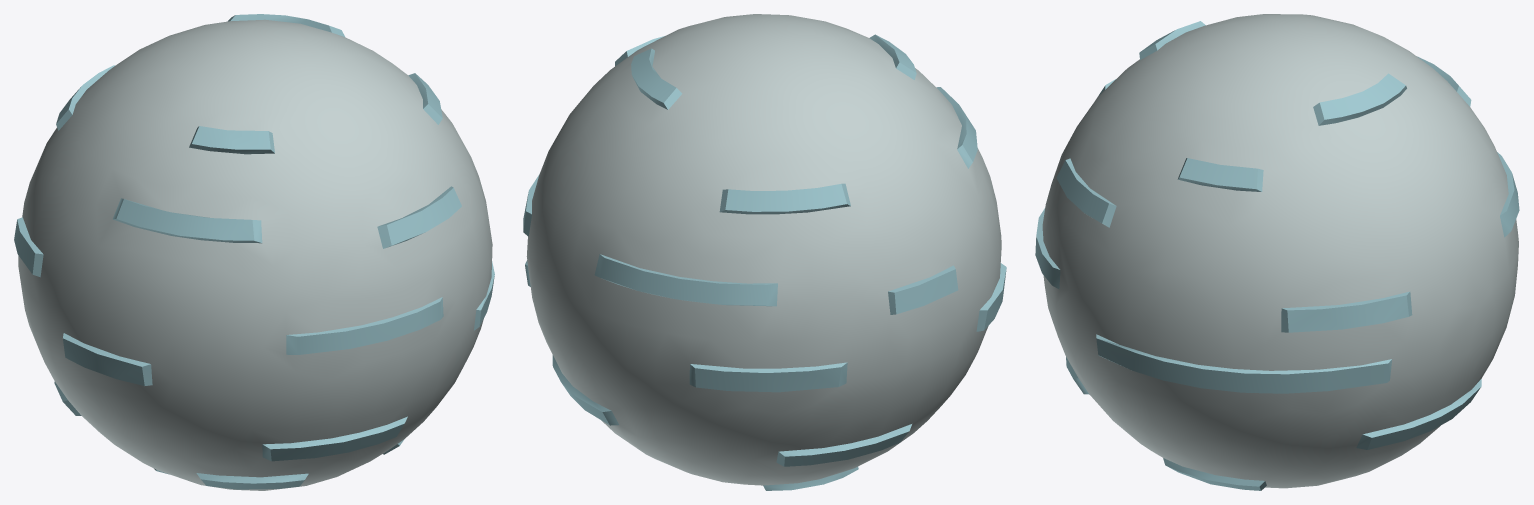
Rendered from Planet_9-transformed.glb.
3 renders of one model, left to right at view 1: azimuth 30°, elevation 25°; view 2: azimuth 150°, elevation 25°; view 3: azimuth 270°, elevation 25°, orthographic.
Parts seen in each view (by area): view 1: Planet_9; view 2: Planet_9; view 3: Planet_9.
Boxes of the visible parts, x1,y1,x2,y2 form: Planet_9: (14, 14, 494, 490); Planet_9: (523, 14, 1006, 490); Planet_9: (1035, 14, 1519, 490).
Size of the model in its own units: 3.82 by 3.75 by 3.81.
Materials: 1 (1 with a texture image).
